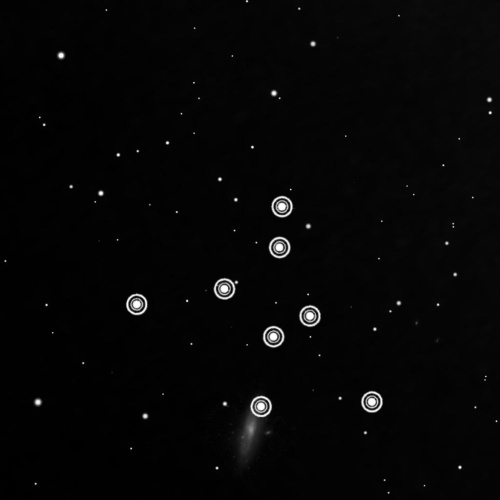hercules: (117, 189, 390, 424)
